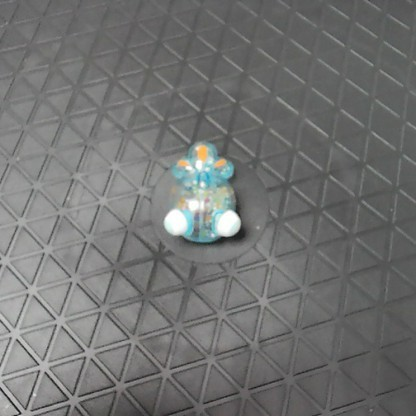bluefish: (162, 139, 243, 246)
